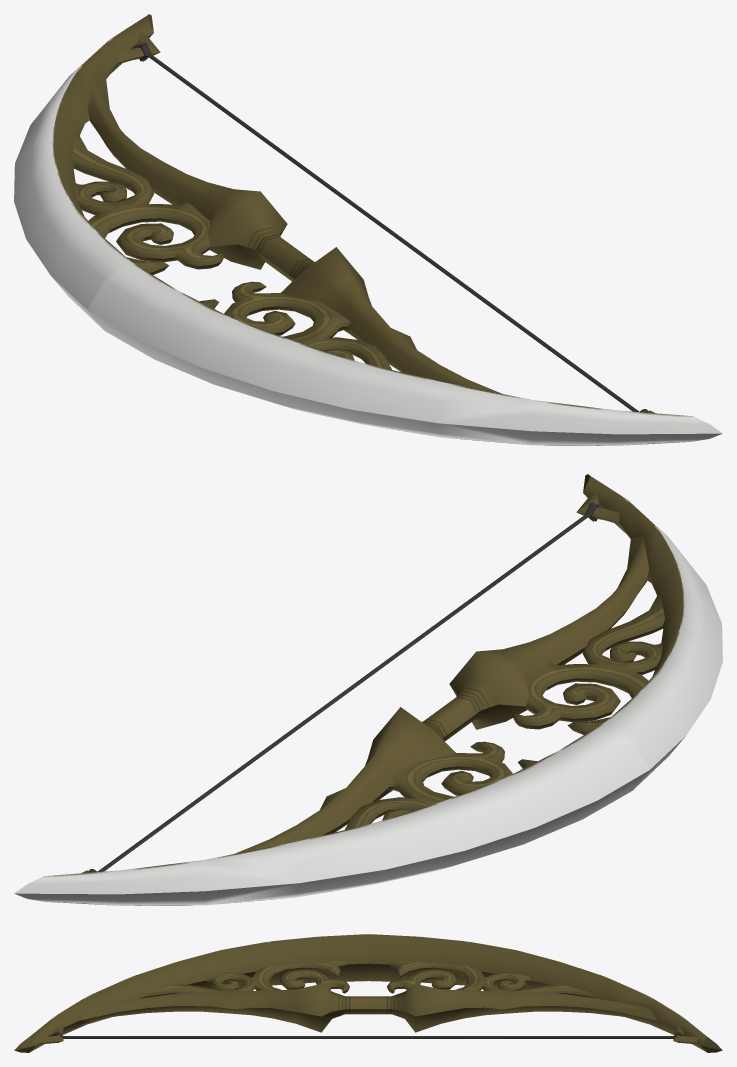
File: bow.fbx
3 renders of one model, top to bottom at view 1: azimuth 30°, elevation 25°; view 2: azimuth 150°, elevation 25°; view 3: azimuth 270°, elevation 25°, orthographic. The views are drawn at different scales.
Parts seen in each view (by area): view 1: Object_2; view 2: Object_2; view 3: Object_2.
Part boxes in pixels (bbox=[...]): Object_2: bbox=[14, 14, 722, 445]; Object_2: bbox=[14, 474, 722, 905]; Object_2: bbox=[14, 934, 722, 1052].
Bounding box in the file's own units: 49.71 × 10.64 × 140.
Materials: 1 (1 with a texture image).
